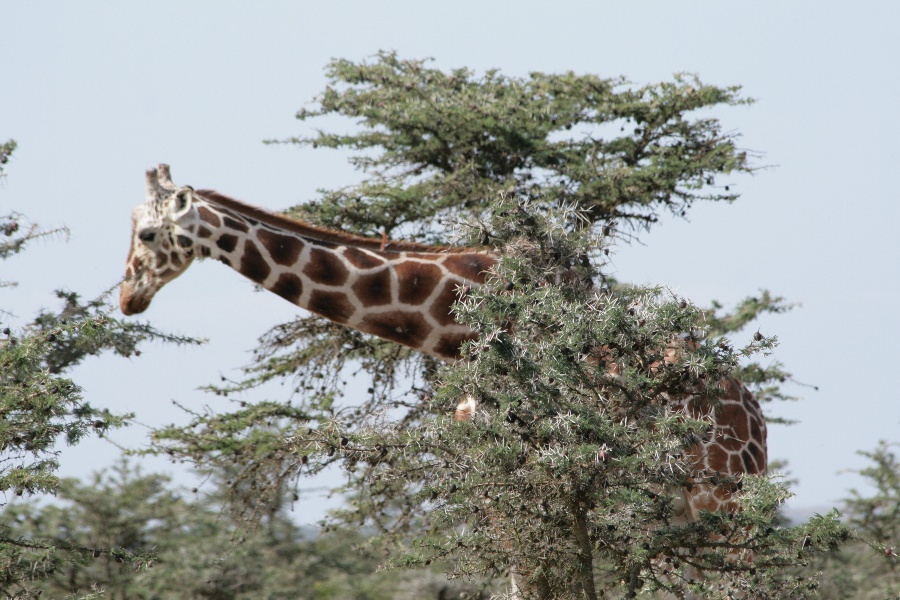giraffe: (112, 155, 772, 598)
